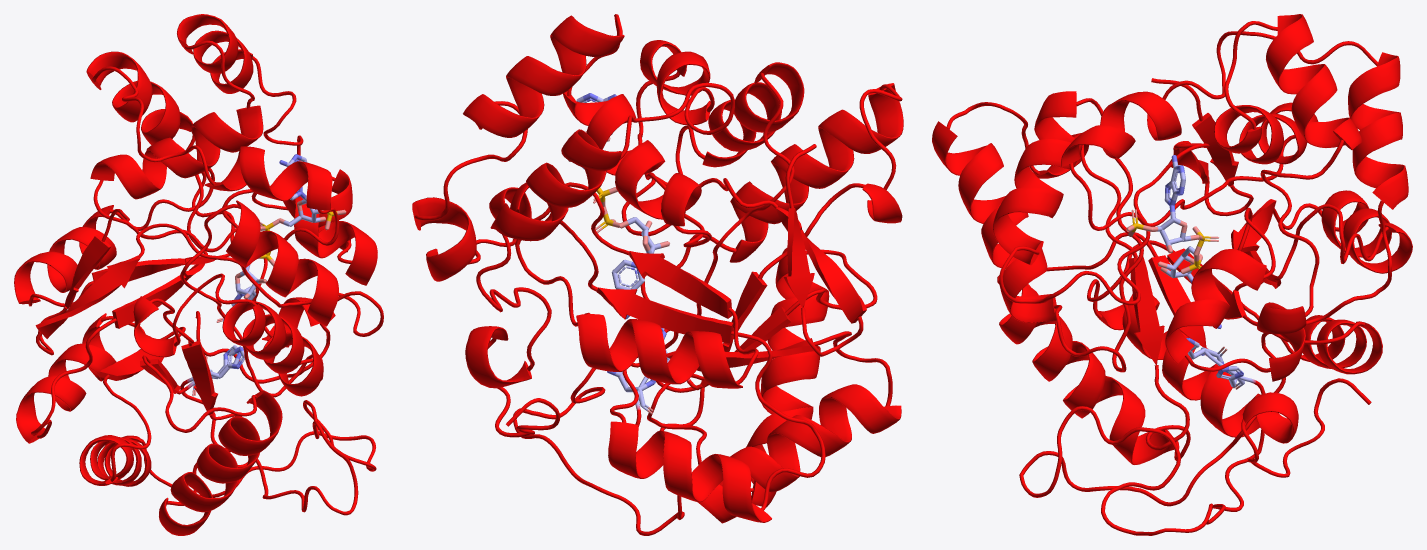
The model's file is test_XRT.gltf.
3 renders of one model, left to right at view 1: azimuth 30°, elevation 25°; view 2: azimuth 150°, elevation 25°; view 3: azimuth 270°, elevation 25°, orthographic. The views are drawn at different scales.
Visible parts, largest first — view 1: node-geom176, node-geom175, node-geom177; view 2: node-geom176, node-geom175, node-geom177; view 3: node-geom175, node-geom176, node-geom177.
Part boxes in pixels (x1,y1,x2,y2): node-geom176: [14, 14, 377, 486]; node-geom175: [35, 200, 383, 535]; node-geom177: [86, 51, 339, 383]; node-geom176: [412, 14, 901, 523]; node-geom175: [513, 62, 903, 535]; node-geom177: [465, 40, 734, 437]; node-geom175: [932, 78, 1265, 535]; node-geom176: [1071, 14, 1412, 437]; node-geom177: [1061, 31, 1408, 477].
Bounding box in the file's own units: 42.75 × 53.28 × 45.96.
